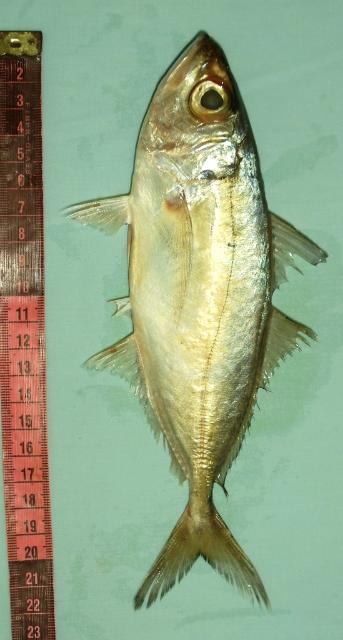Mulut: (170, 24, 236, 74)
Sirip Anal: (77, 290, 187, 482)
Sirip Dada: (154, 178, 200, 342)
Sirip Ekor: (120, 492, 290, 626)
Sirip Perut: (62, 178, 142, 252)
Sirip Punggung: (249, 196, 333, 474)
